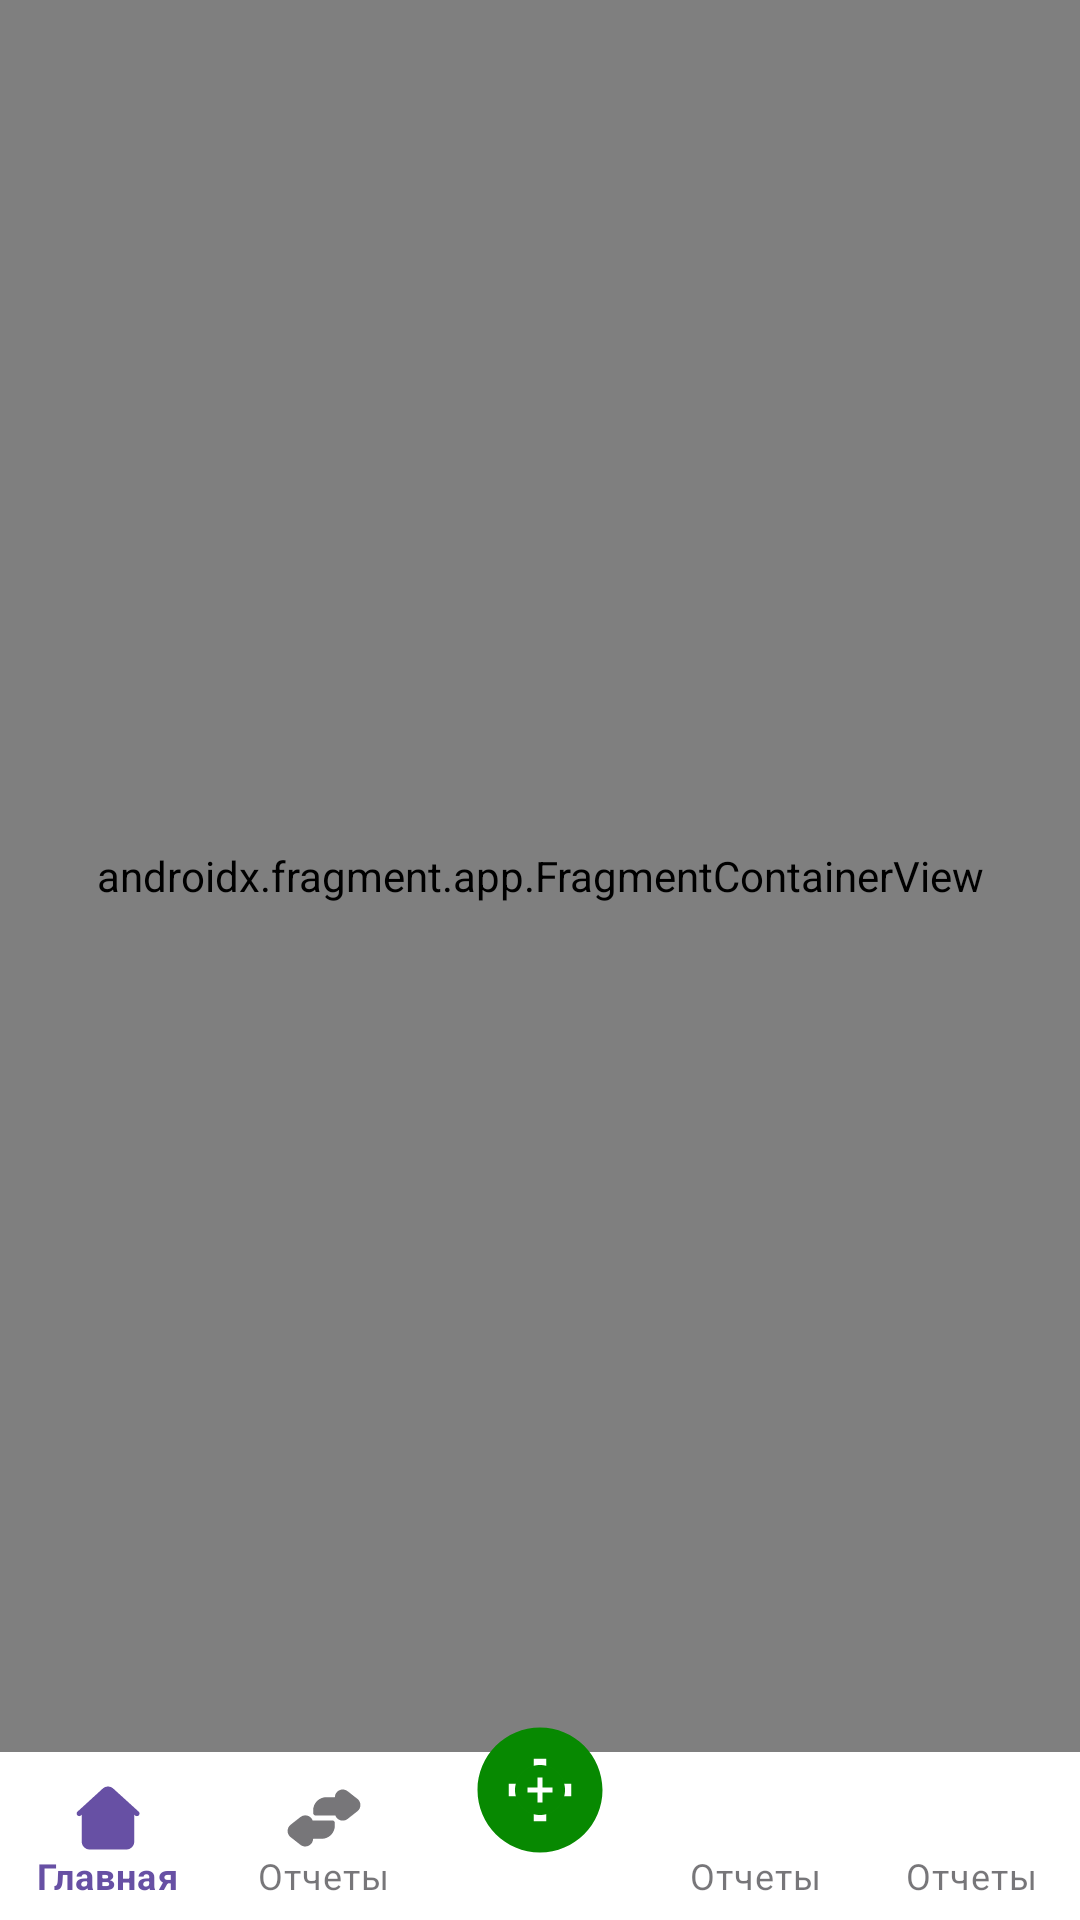

Named icons in this screenshot (1080*1920) and their centers, point (x, y):
add: point (540, 1784)
